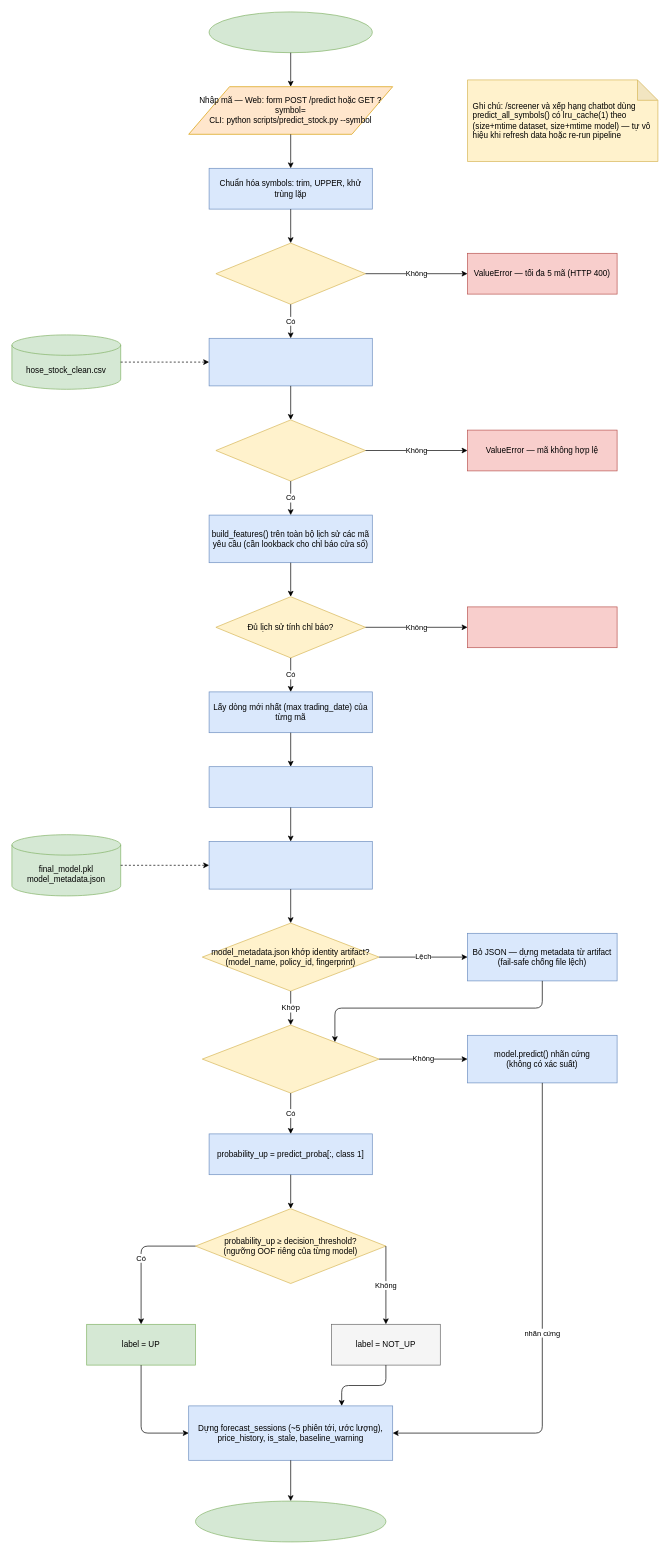
Image size: 670x1554. Some labels were removed from this diagram. The shapes that lost their labels are listed below. From the top down, each one's centre as x and y in pixels, then its label:
At [290,32]: "Bắt đầu: người dùng cần dự báo mã cổ phiếu".
At [290,273]: "Số mã ≤ 5?".
At [290,362]: "Đọc data/processed/hose_stock_clean.csv (thiếu thì làm sạch raw CSV tại chỗ)".
At [290,450]: "Mã tồn tại trong dữ liệu?".
At [542,627]: "ValueError — không đủ dữ liệu".
At [290,787]: "Sắp cột đúng feature_order (sklearn khớp theo VỊ TRÍ cột)".
At [290,865]: "joblib.load models/final_model.pkl (đọc lại mỗi request — không cache)".
At [290,1058]: "Model có predict_proba và biết class 1?".
At [290,1521]: "Trả kết quả: nhãn + xác suất + cảnh báo".
